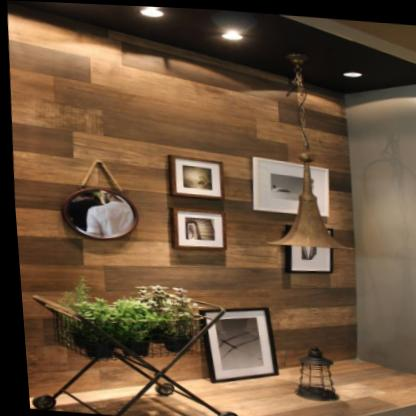Wall Panel: (7, 0, 354, 398)
